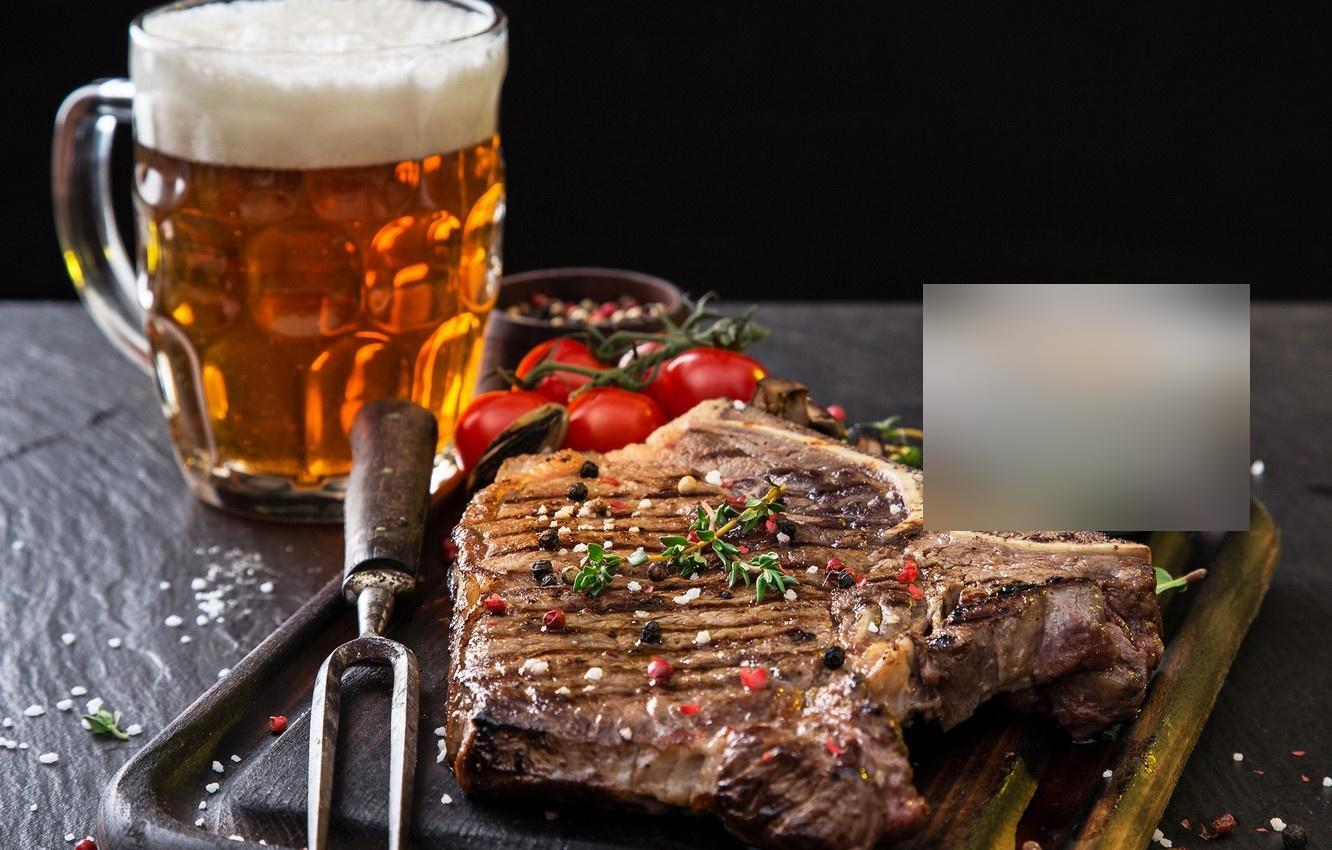glass-mug: (48, 1, 511, 532)
